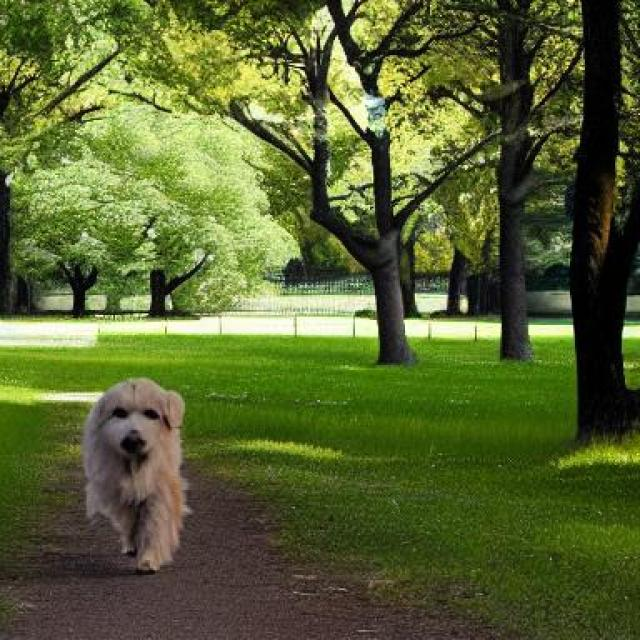Dog: (85, 379, 191, 575)
